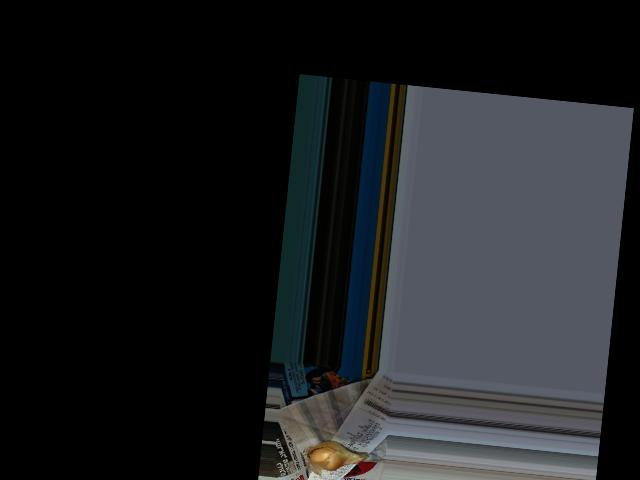onion: (305, 440, 361, 472)
